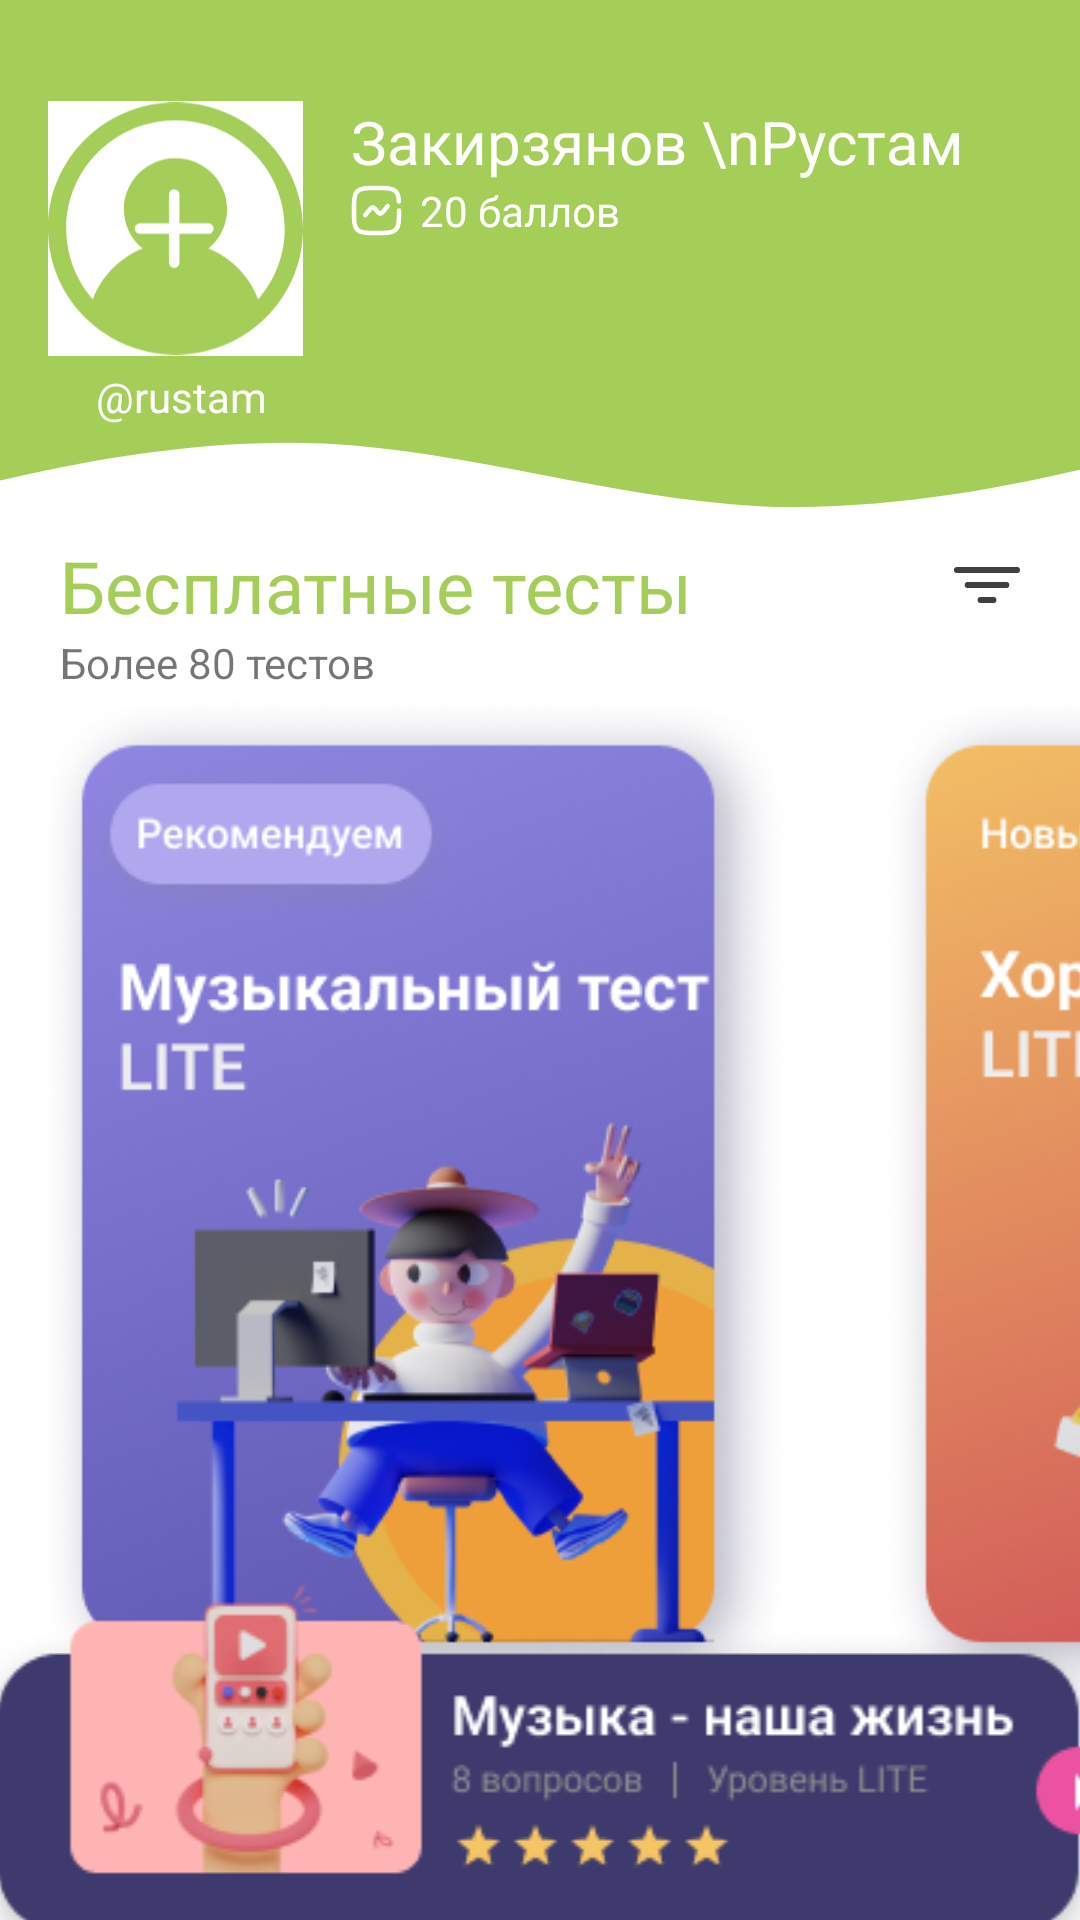

Where to tap for icons on this 1080*1920 app screen, as (x=x, y=y):
prof: (x=175, y=228)
